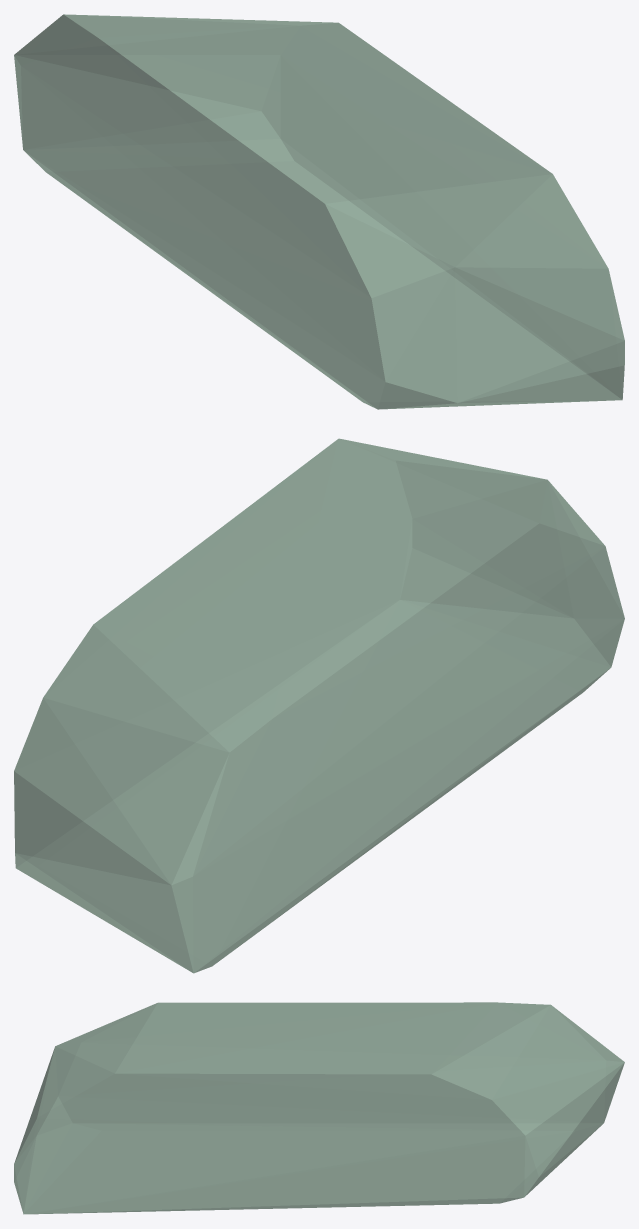
3 views of the same model, one above another, from view 1: azimuth 30°, elevation 25°; view 2: azimuth 150°, elevation 25°; view 3: azimuth 270°, elevation 25° (orthographic). The views are drawn at different scales.
Visible parts, largest first — view 1: Shape_IndexedFaceSet.017_Shape_IndexedFaceSet.16484; view 2: Shape_IndexedFaceSet.017_Shape_IndexedFaceSet.16484; view 3: Shape_IndexedFaceSet.017_Shape_IndexedFaceSet.16484.
Boxes of the visible parts, <box> form: Shape_IndexedFaceSet.017_Shape_IndexedFaceSet.16484: <box>14,14,624,409</box>; Shape_IndexedFaceSet.017_Shape_IndexedFaceSet.16484: <box>14,438,624,973</box>; Shape_IndexedFaceSet.017_Shape_IndexedFaceSet.16484: <box>14,1002,624,1214</box>.
Bounding box in the file's own units: 0.0698 × 0.0573 × 0.2304.
